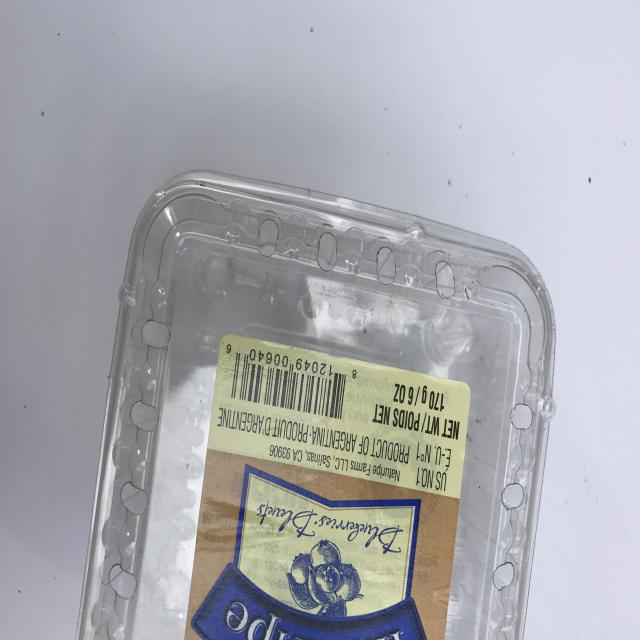plastic: (74, 169, 556, 640)
